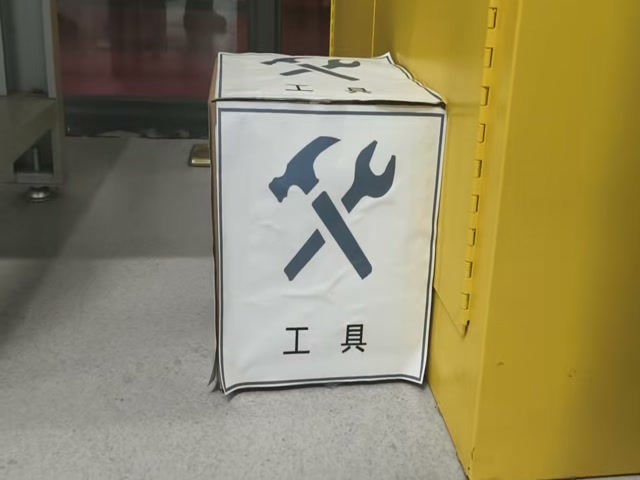Cube_tool: (211, 44, 442, 119)
